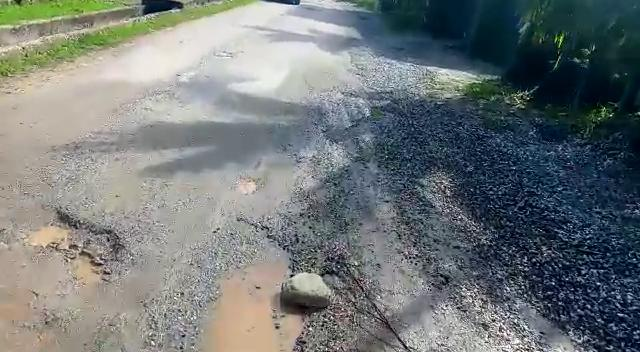pothole: (196, 253, 309, 352), (23, 210, 136, 284)
